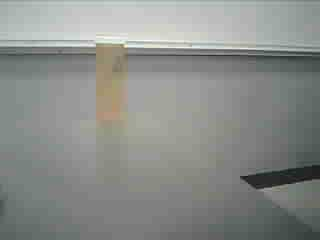Bottle A: (91, 29, 137, 131)
